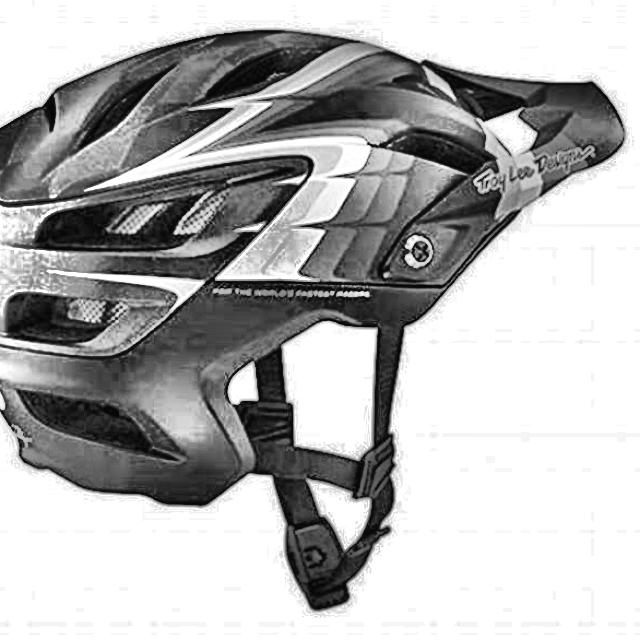Helmet: (0, 12, 631, 619)
